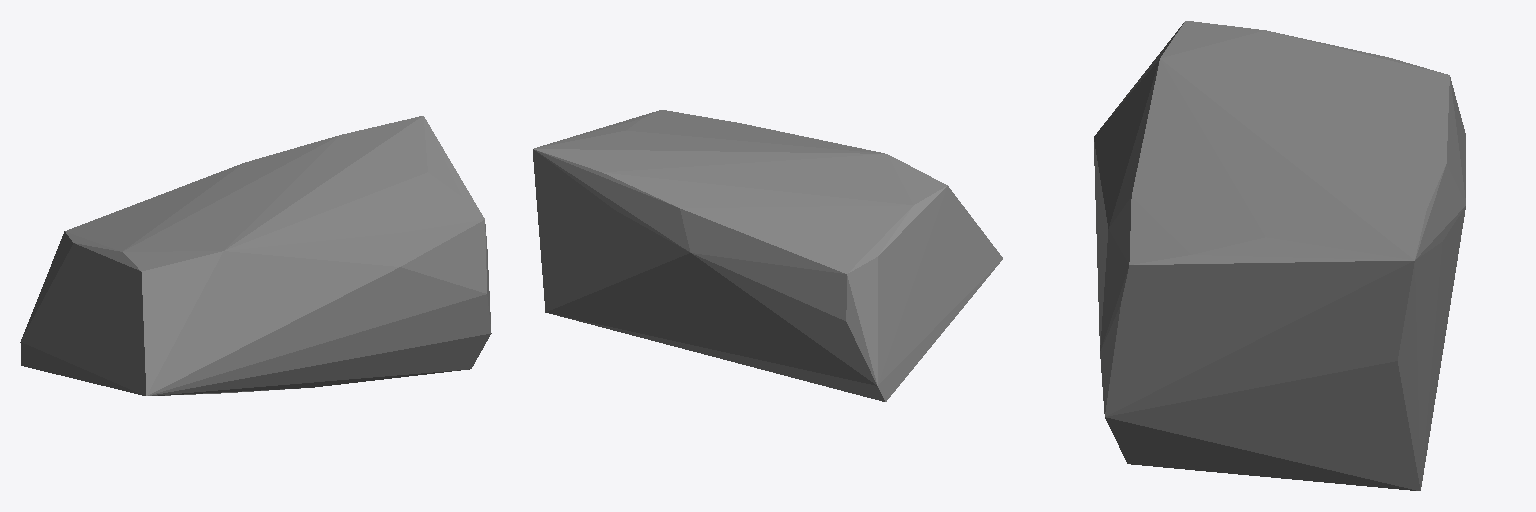
robot.urdf — 10_806:
<?xml version="1.0"?>
<robot name="10_806">
  <link name="link">
    <contact>
      <lateral_friction value="0.6"/>
    </contact>
    <inertial>
      <mass value = "0.5121533933271715"/>
      <inertia ixx="0.00020384524254279097" ixy="-5.110952398471746e-06" ixz="2.8233669600298502e-06" iyy="0.0004567411249921482" iyz="-5.81029976389391e-06" izz="0.0005128174712829582" />
    </inertial>
    <visual name="visual">
      <geometry>
        <mesh filename="10_806.obj"/>
      </geometry>
      <material name="material">
        <color rgba="0.5683693798734377 0.5683693798734377 0.5683693798734377 1.0"/>
      </material>
    </visual>
    <collision name="collision">
      <geometry>
        <mesh filename="10_806.obj"/>
      </geometry>
    </collision>
  </link>
</robot>

--- Render facts (derived) ---
The picture shows the robot from 3 angles, left to right: view 1: azimuth 30°, elevation 25°; view 2: azimuth 150°, elevation 25°; view 3: azimuth 270°, elevation 25°; orthographic projection.
Model 10_806 with 1 links and 0 joints (none), rooted at link, posed every joint at zero.
Visible links, largest first — view 1: link; view 2: link; view 3: link.
Boxes of the visible links, x1,y1,x2,y2 form: link: [20, 116, 491, 395]; link: [533, 110, 1002, 401]; link: [1094, 21, 1465, 490].
Bounding box of the posed robot: 0.1078 × 0.0623 × 0.0491 m (x, y, z).
1 mesh visuals loaded from 1 distinct referenced files (1 OBJ).
